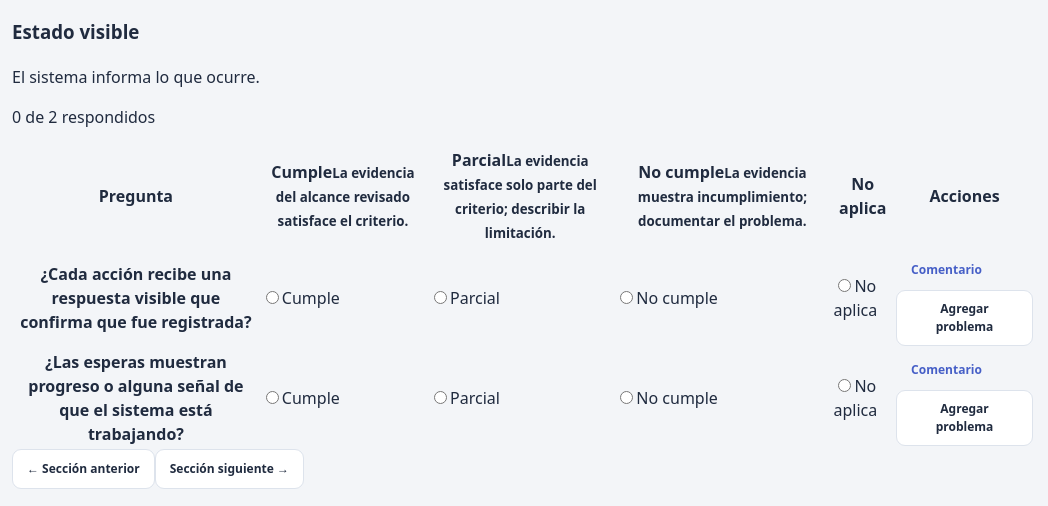
Scenario: MatrizItem › enunciado y título siempre visibles; Sección siguiente y anterior cambian de ítem
Check: the heading "Estado visible" is shown, box [12,19,139,44]
Check: the text "El sistema informa lo que ocurre." is shown, box [12,66,260,88]
Click the button "Sección siguiente →" at (229, 468), box [155,448,304,488]
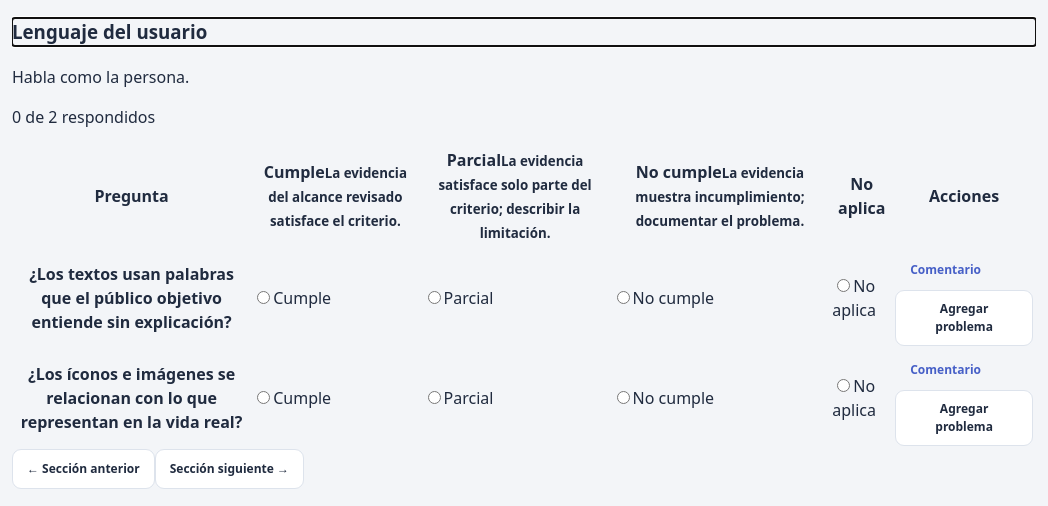
Check: the text "Habla como la persona." is shown, box [12,66,189,88]
Check: the heading "Estado visible" is gone
Click the button "← Sección anterior" at (83, 468), box [12,448,155,488]
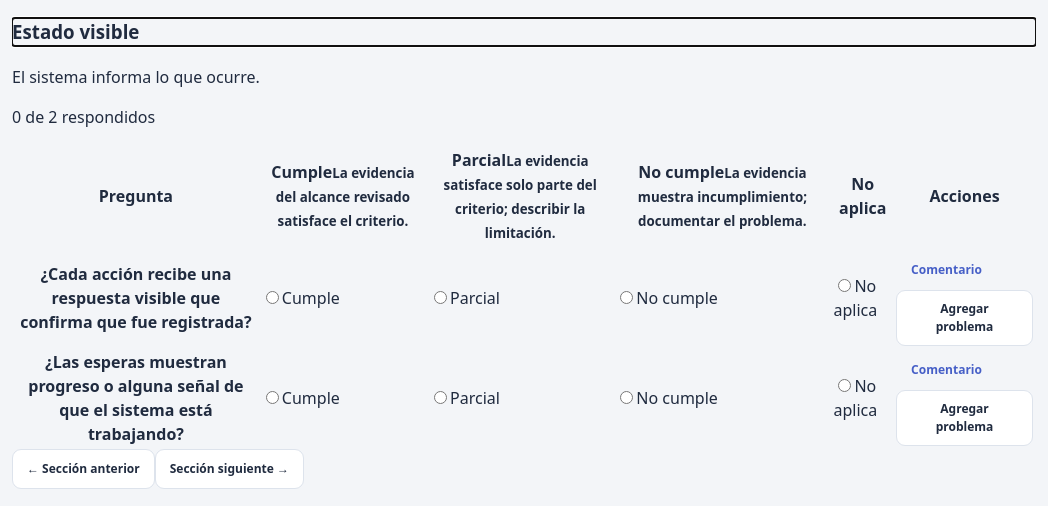
Check: the heading "Estado visible" is shown, box [12,19,139,44]
